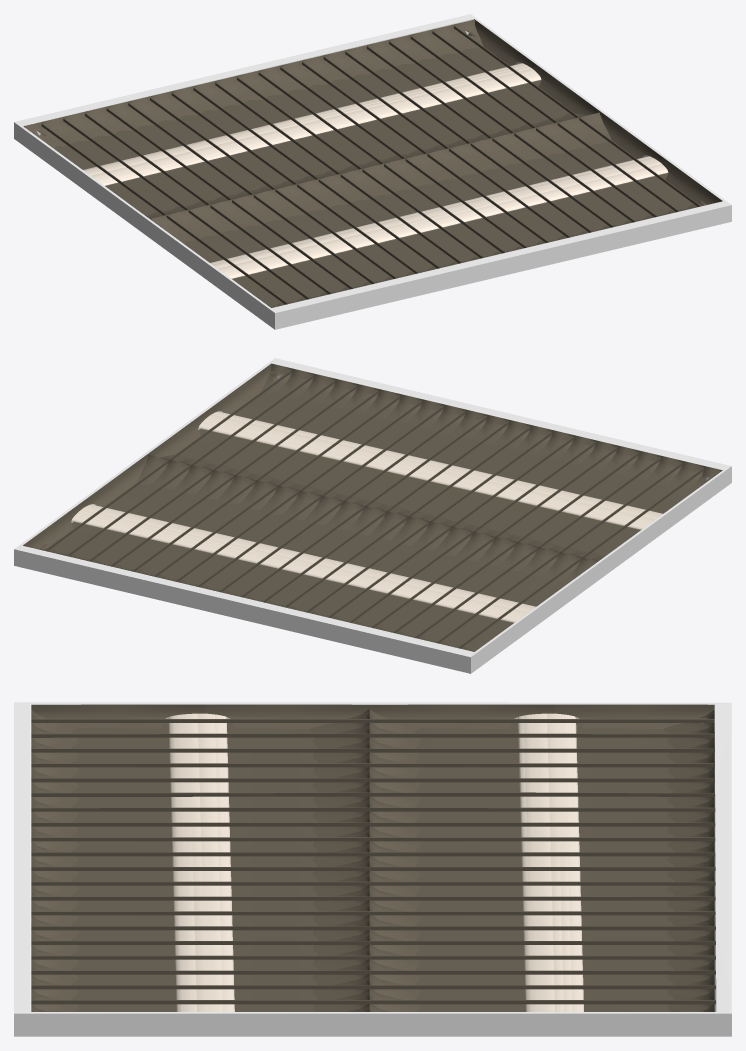
Rendered from ceiling.obj.
3 views of the same model, one above another, from view 1: azimuth 30°, elevation 25°; view 2: azimuth 150°, elevation 25°; view 3: azimuth 270°, elevation 25° (orthographic). The views are drawn at different scales.
Visible parts, largest first — view 1: Ground.001_metal, Ground.001_outer, Ground.001_bulb; view 2: Ground.001_metal, Ground.001_outer, Ground.001_bulb; view 3: Ground.001_metal, Ground.001_outer, Ground.001_bulb.
Part boxes in pixels (x1=…): Ground.001_metal: x1=23, y1=19, x2=722, y2=307; Ground.001_outer: x1=14, y1=14, x2=731, y2=329; Ground.001_bulb: x1=83, y1=63, x2=668, y2=278; Ground.001_metal: x1=23, y1=363, x2=722, y2=651; Ground.001_outer: x1=14, y1=358, x2=731, y2=673; Ground.001_bulb: x1=71, y1=411, x2=662, y2=622; Ground.001_metal: x1=31, y1=704, x2=715, y2=1011; Ground.001_outer: x1=14, y1=702, x2=731, y2=1036; Ground.001_bulb: x1=168, y1=713, x2=583, y2=1011.
Size of what is drawn, in the model's own units: 0.1053 by 0.00442 by 0.1042.
